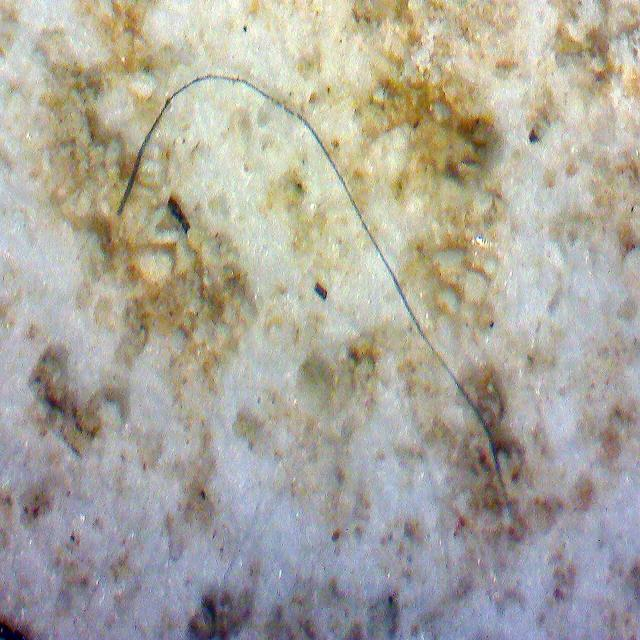microplastic: (117, 74, 501, 473)
